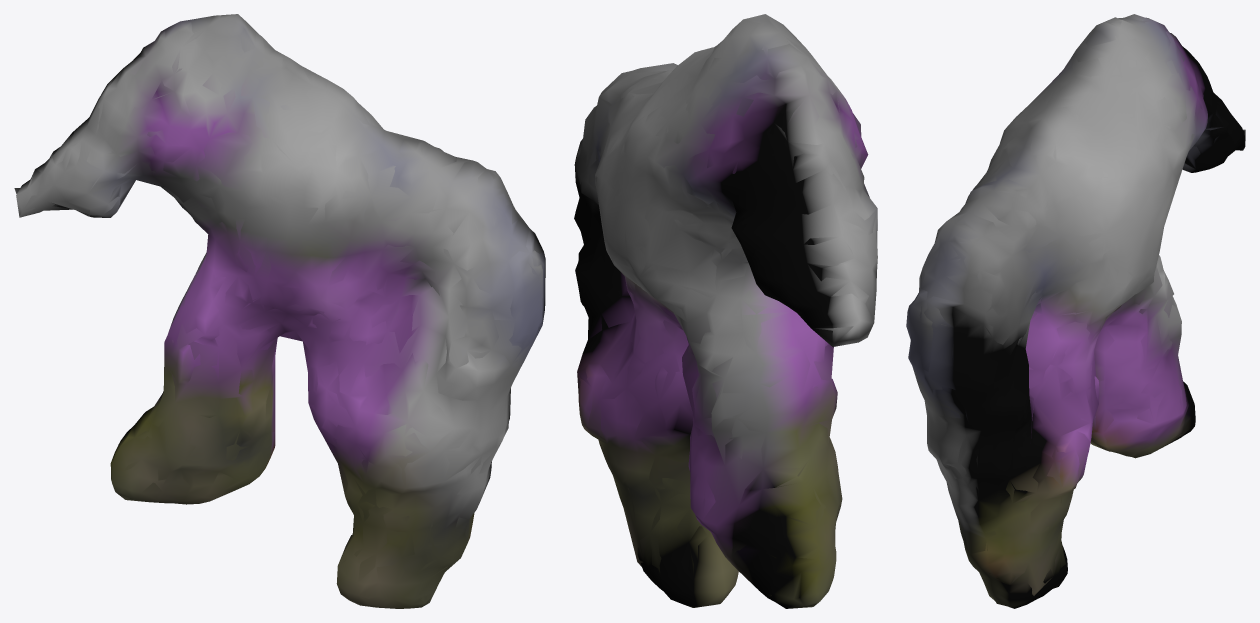
The model's file is brute.glb.
3 renders of one model, left to right at view 1: azimuth 30°, elevation 25°; view 2: azimuth 150°, elevation 25°; view 3: azimuth 270°, elevation 25°, orthographic. The views are drawn at different scales.
Visible parts, largest first — view 1: yuri_brute; view 2: yuri_brute; view 3: yuri_brute.
Boxes of the visible parts, left/top/right/bottom form: yuri_brute: left=14, top=14, right=545, bottom=608; yuri_brute: left=574, top=14, right=877, bottom=608; yuri_brute: left=906, top=14, right=1245, bottom=608.
Bounding box in the file's own units: 1.57 × 2.23 × 1.3.
